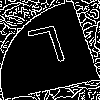L: (25, 24, 73, 76)
